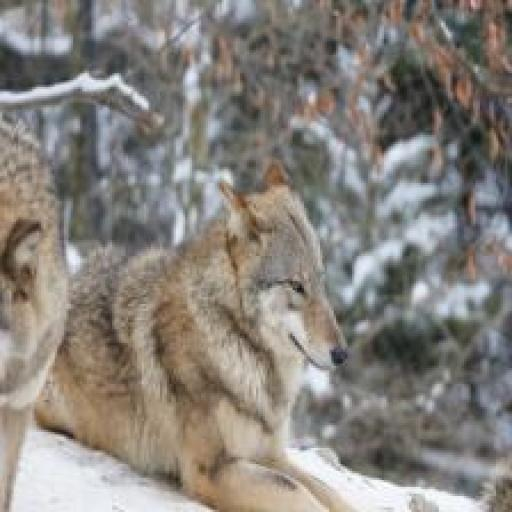wolf: (34, 162, 373, 511), (2, 119, 72, 512)
